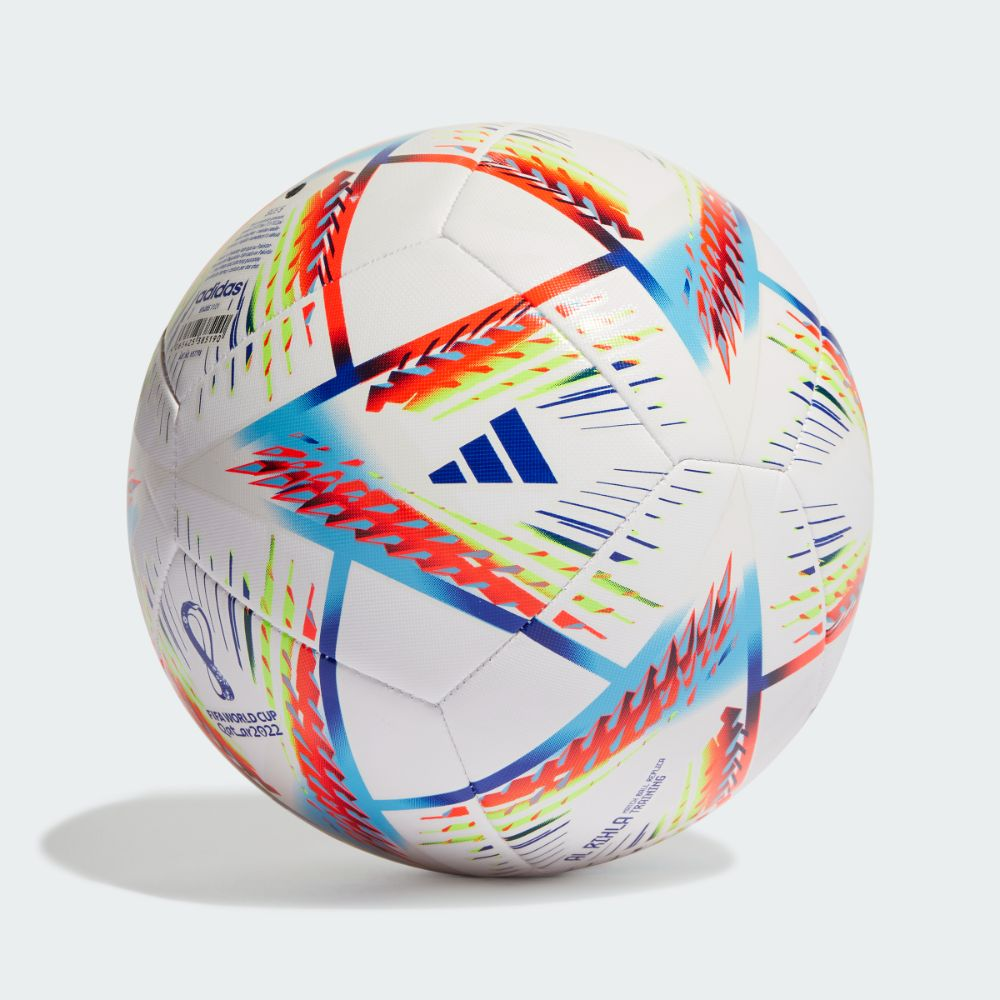ball: (125, 121, 875, 882)
